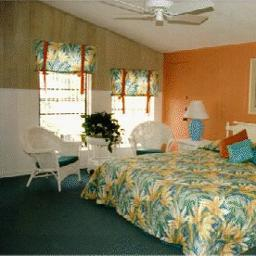Cama: (92, 118, 252, 242)
Matera: (86, 113, 122, 163)
Ventana: (39, 43, 84, 136), (108, 68, 155, 123)
